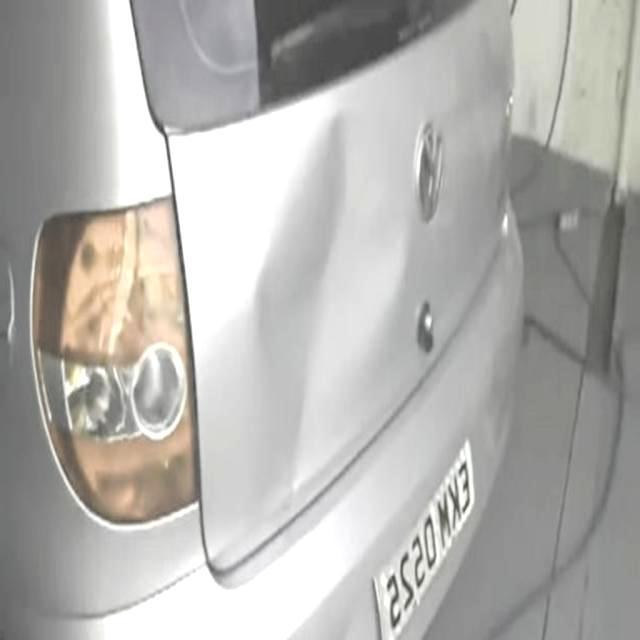minor: (252, 105, 409, 531)
